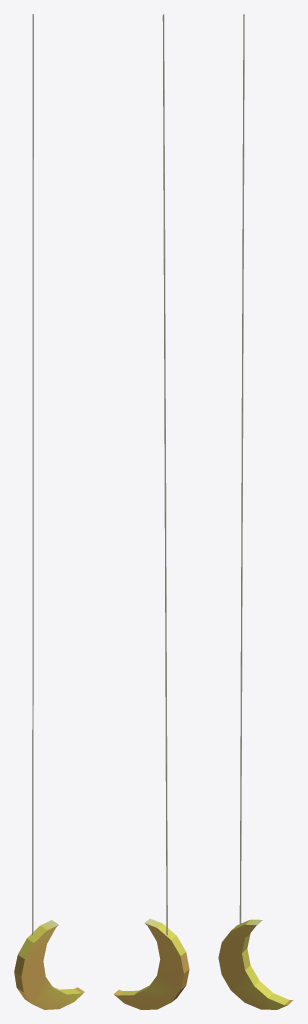
Rendered from moon.fbx.
3 views of the same model, side by side, from view 1: azimuth 30°, elevation 25°; view 2: azimuth 150°, elevation 25°; view 3: azimuth 330°, elevation 25° (orthographic).
Visible parts, largest first — view 1: moon; view 2: moon; view 3: moon.
Part boxes in pixels (x1,y1,x2,y2): moon: [14, 14, 84, 1009]; moon: [114, 14, 189, 1009]; moon: [218, 14, 293, 1009].
Bounding box in the file's own units: 0.3995 × 5.62 × 0.1016.
